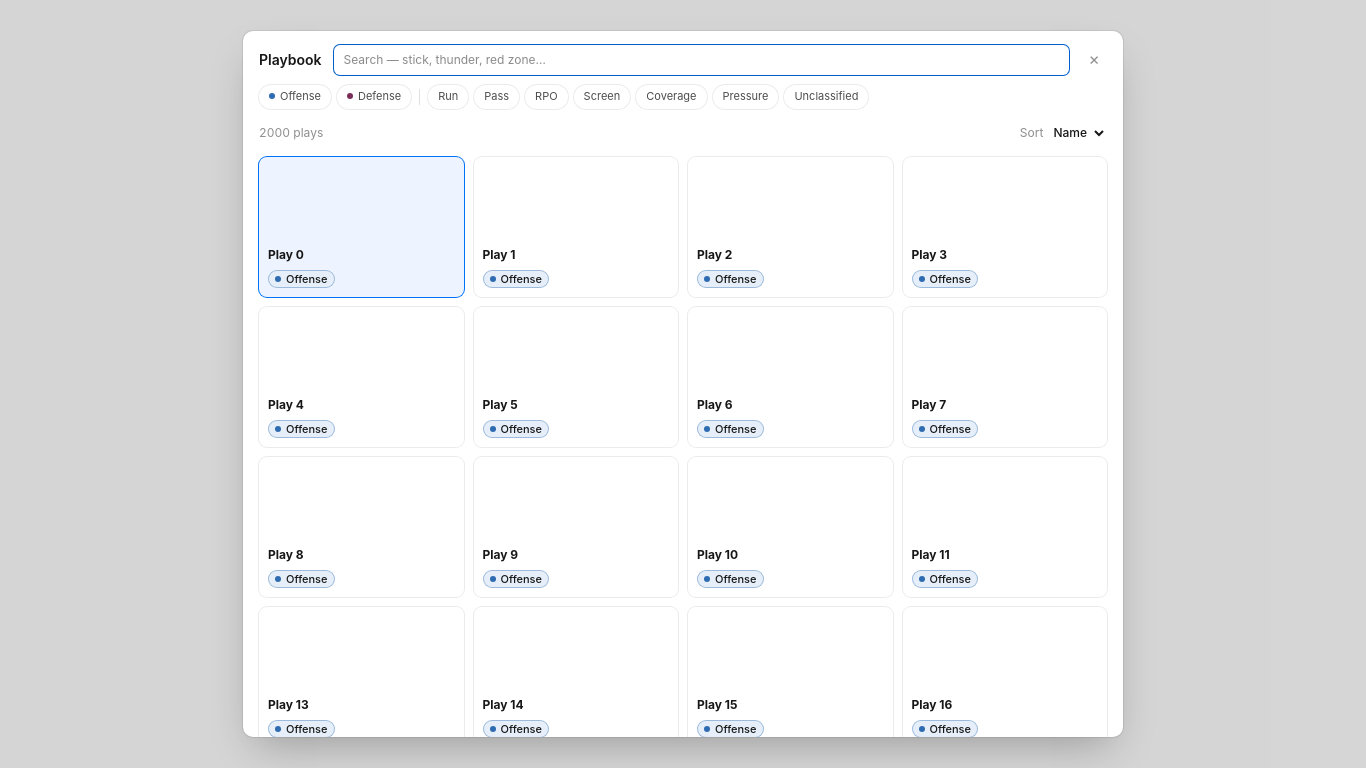
the Playbook browser › virtualizes a 2,000-Play list instead of mounting every card
Type "stick" into the field named "Search plays" at (701, 60), box x1=334 y1=45 x2=1069 y2=75
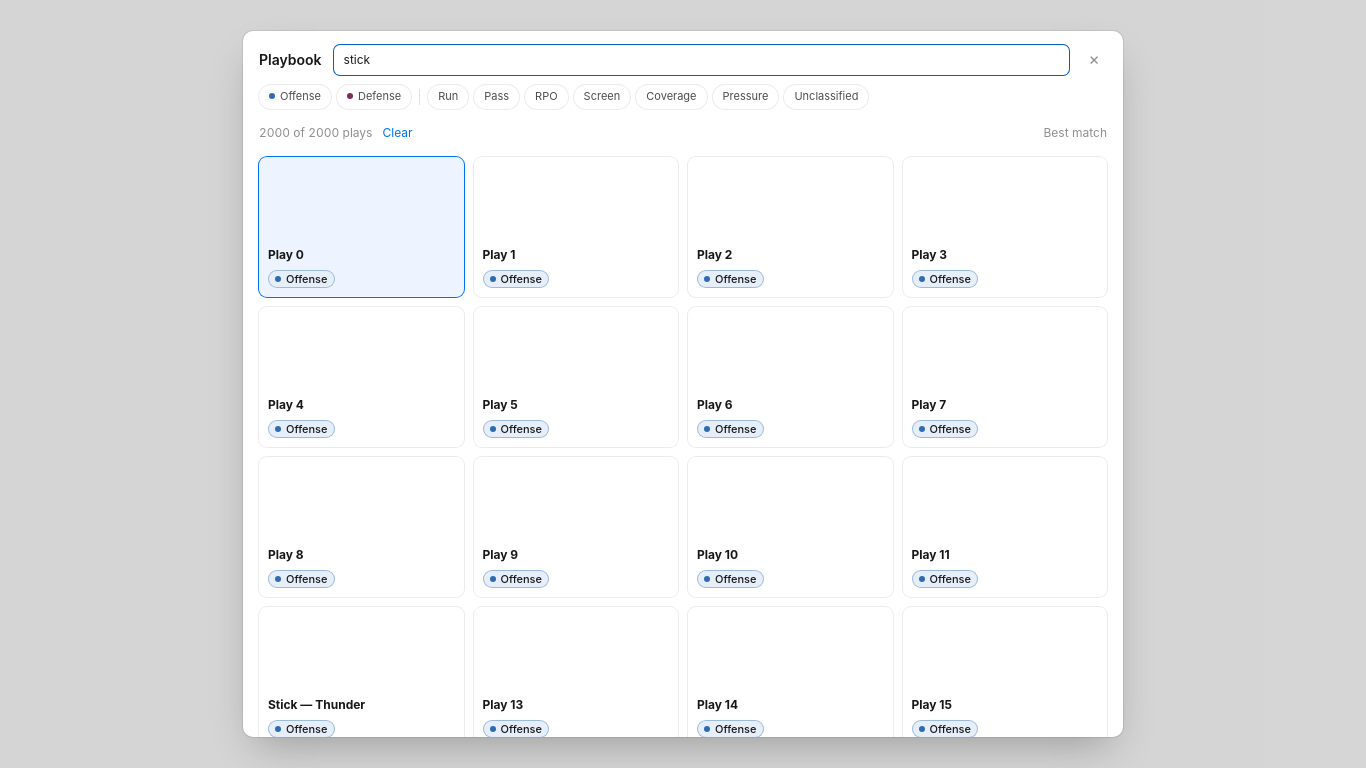
Now the text "Stick — Thunder" is shown, box x1=268 y1=696 x2=365 y2=714
